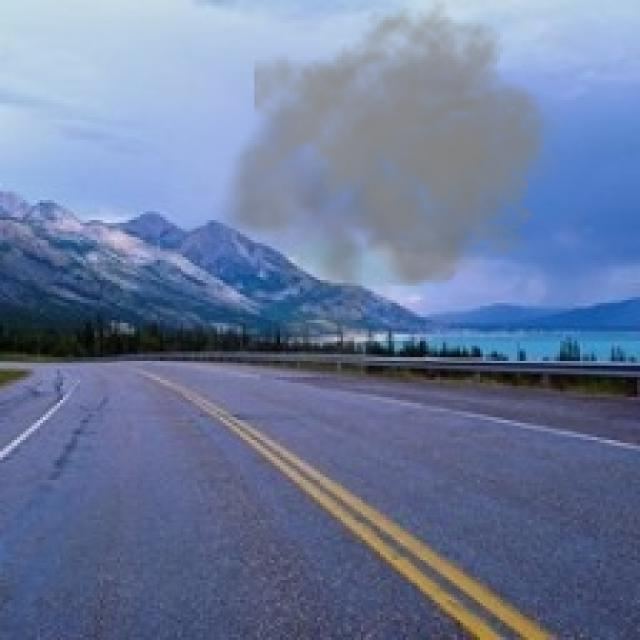smoke: (212, 0, 572, 389)
